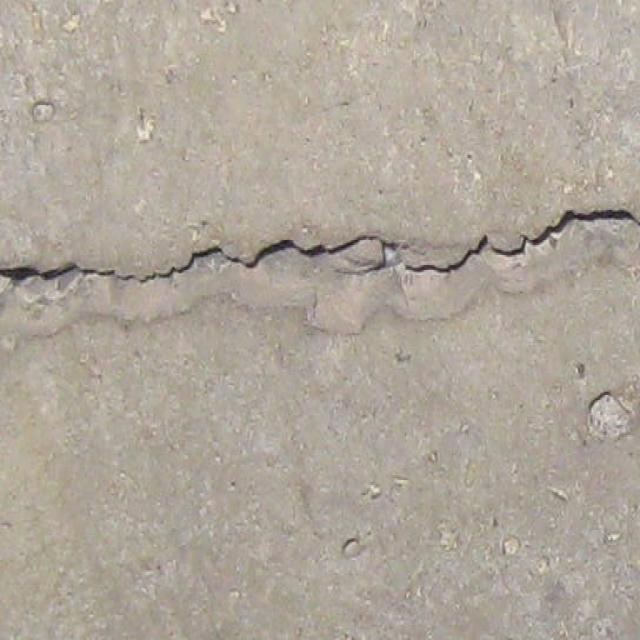Transverse: (0, 200, 640, 295)
